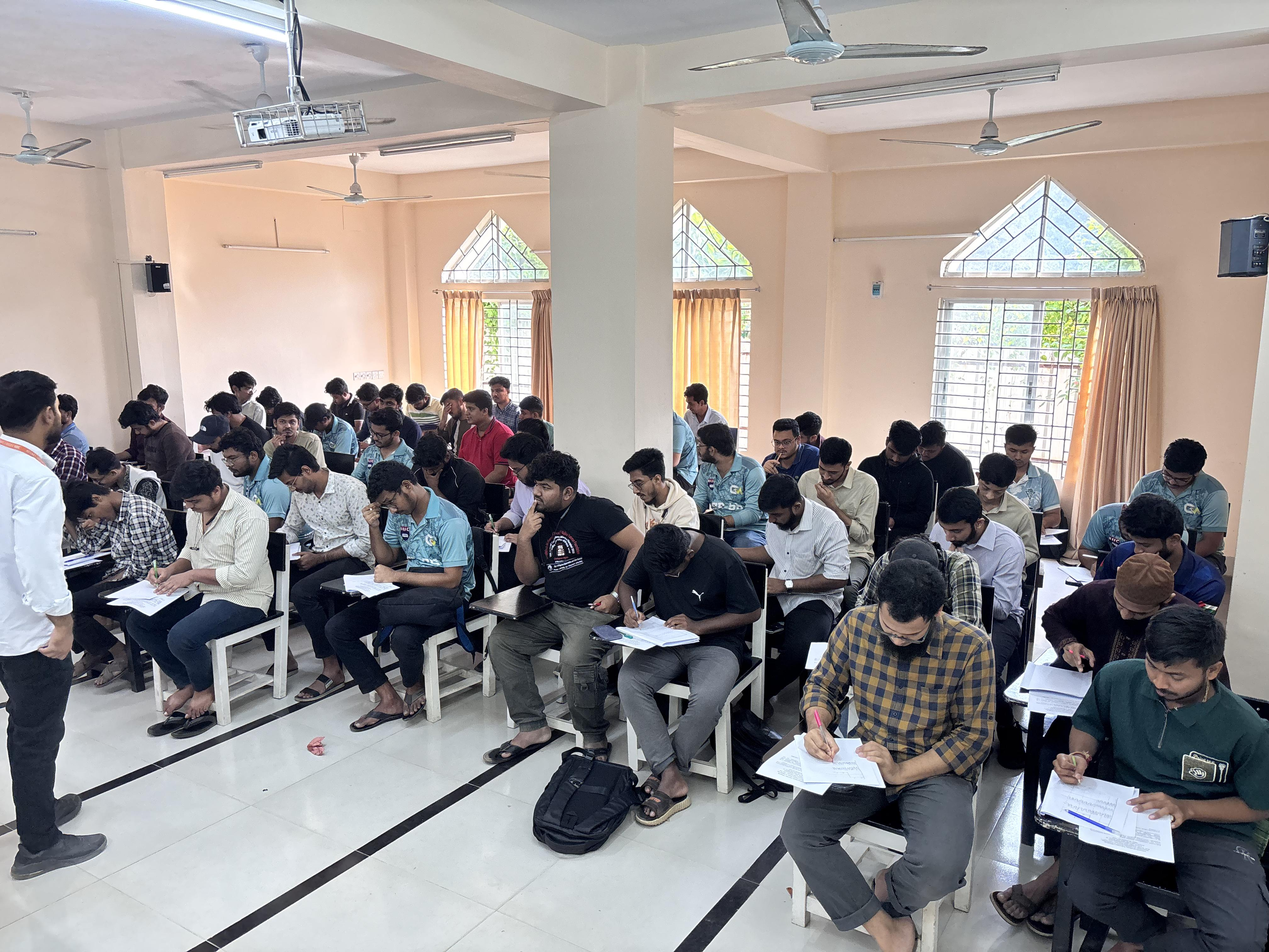invigilator: (8, 360, 104, 843)
no_cheating: (1024, 623, 1269, 952), (779, 581, 977, 851), (603, 523, 758, 753), (142, 477, 273, 677), (502, 466, 617, 682), (341, 479, 467, 658), (1020, 559, 1149, 713), (257, 449, 370, 577), (61, 484, 176, 607), (747, 479, 838, 618), (1114, 433, 1236, 520), (788, 447, 871, 573), (1080, 510, 1208, 583), (925, 498, 1011, 593), (859, 422, 928, 528), (615, 452, 691, 544), (993, 410, 1066, 496), (487, 423, 541, 535), (405, 428, 480, 503), (445, 391, 503, 481), (109, 403, 185, 470), (968, 460, 1035, 535), (760, 416, 822, 496), (903, 410, 962, 484), (209, 433, 283, 491), (85, 446, 154, 497), (357, 414, 413, 467), (397, 376, 445, 427), (304, 401, 352, 447), (324, 373, 361, 420), (683, 384, 725, 424), (364, 377, 408, 410), (798, 403, 829, 445), (485, 372, 512, 411), (508, 391, 533, 419)
side_talking: (680, 423, 760, 512), (222, 367, 295, 414)
